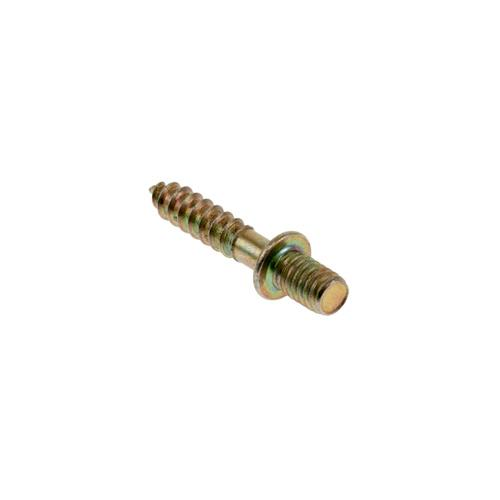Tornillo: (145, 179, 352, 319)
